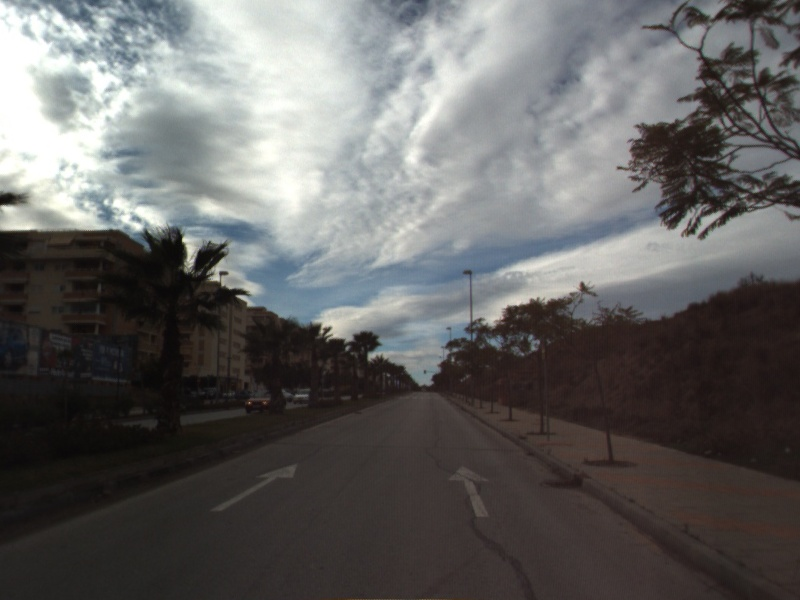STRAIGHT: (208, 461, 300, 514), (446, 463, 493, 519)
